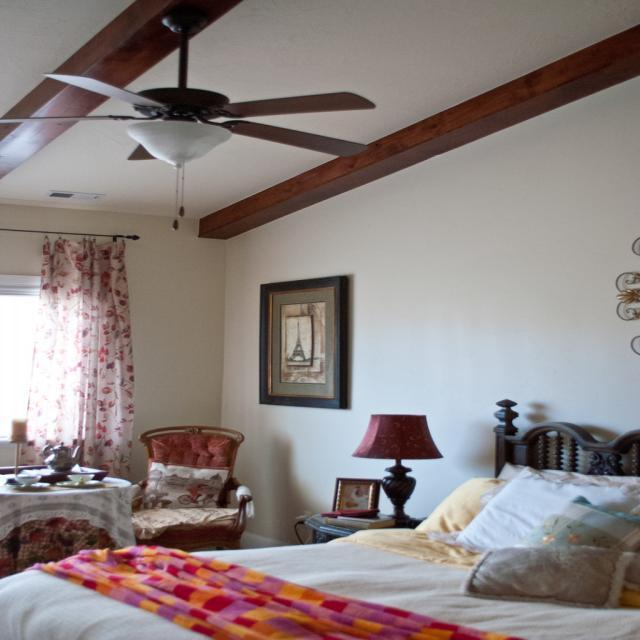fan_off: (2, 15, 381, 153)
